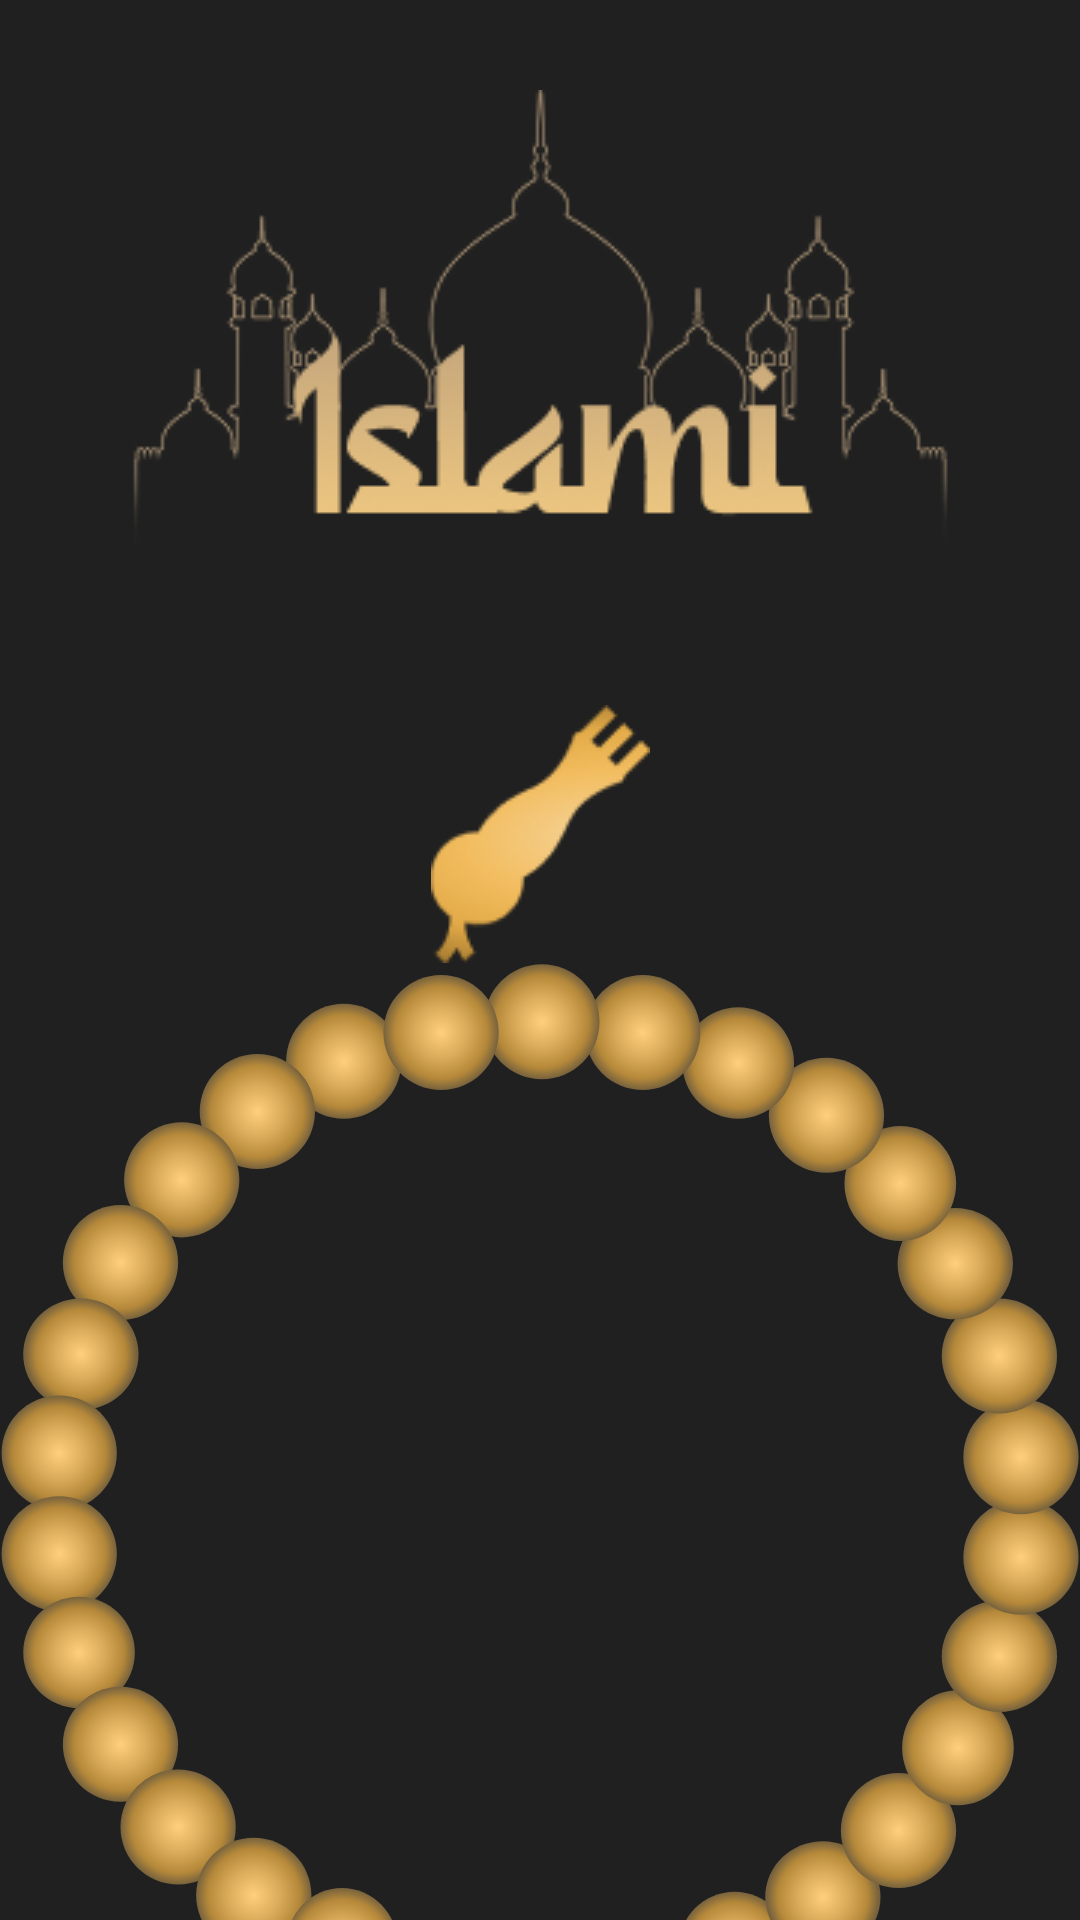

Point at icon controls on the screen. Image size 1080x1920, points as point (x, y).
sebha head: point (540, 834)
